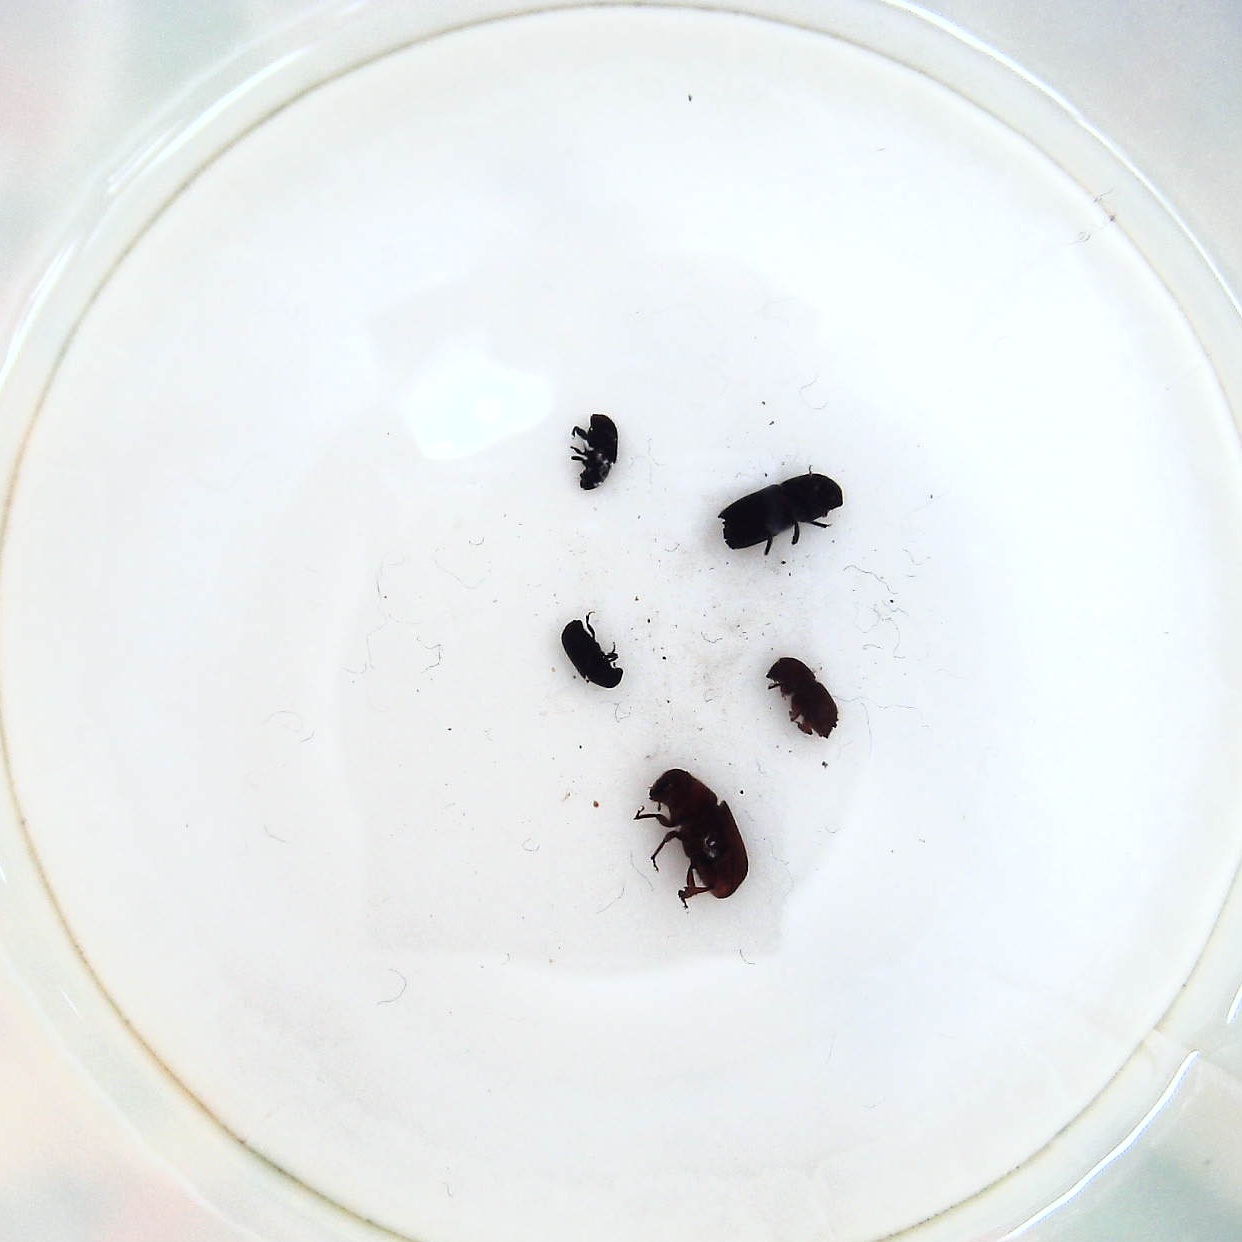Boerner: (711, 470, 850, 565)
Leconte: (631, 770, 755, 911)
armandi: (560, 606, 631, 696)
coleoptera: (568, 406, 626, 496)
linnaeus: (757, 649, 841, 745)
